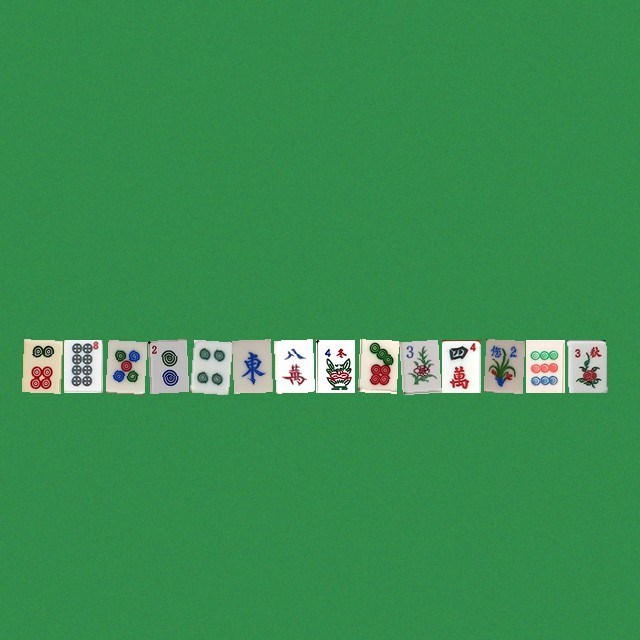tile: (21, 339, 60, 392), (63, 339, 102, 392), (105, 339, 144, 392), (147, 339, 186, 392), (189, 339, 228, 392), (231, 339, 270, 392), (273, 339, 312, 392), (315, 339, 354, 392), (357, 339, 396, 392), (399, 339, 438, 392), (441, 339, 480, 392), (483, 339, 522, 392), (525, 339, 564, 392), (567, 339, 606, 392)
